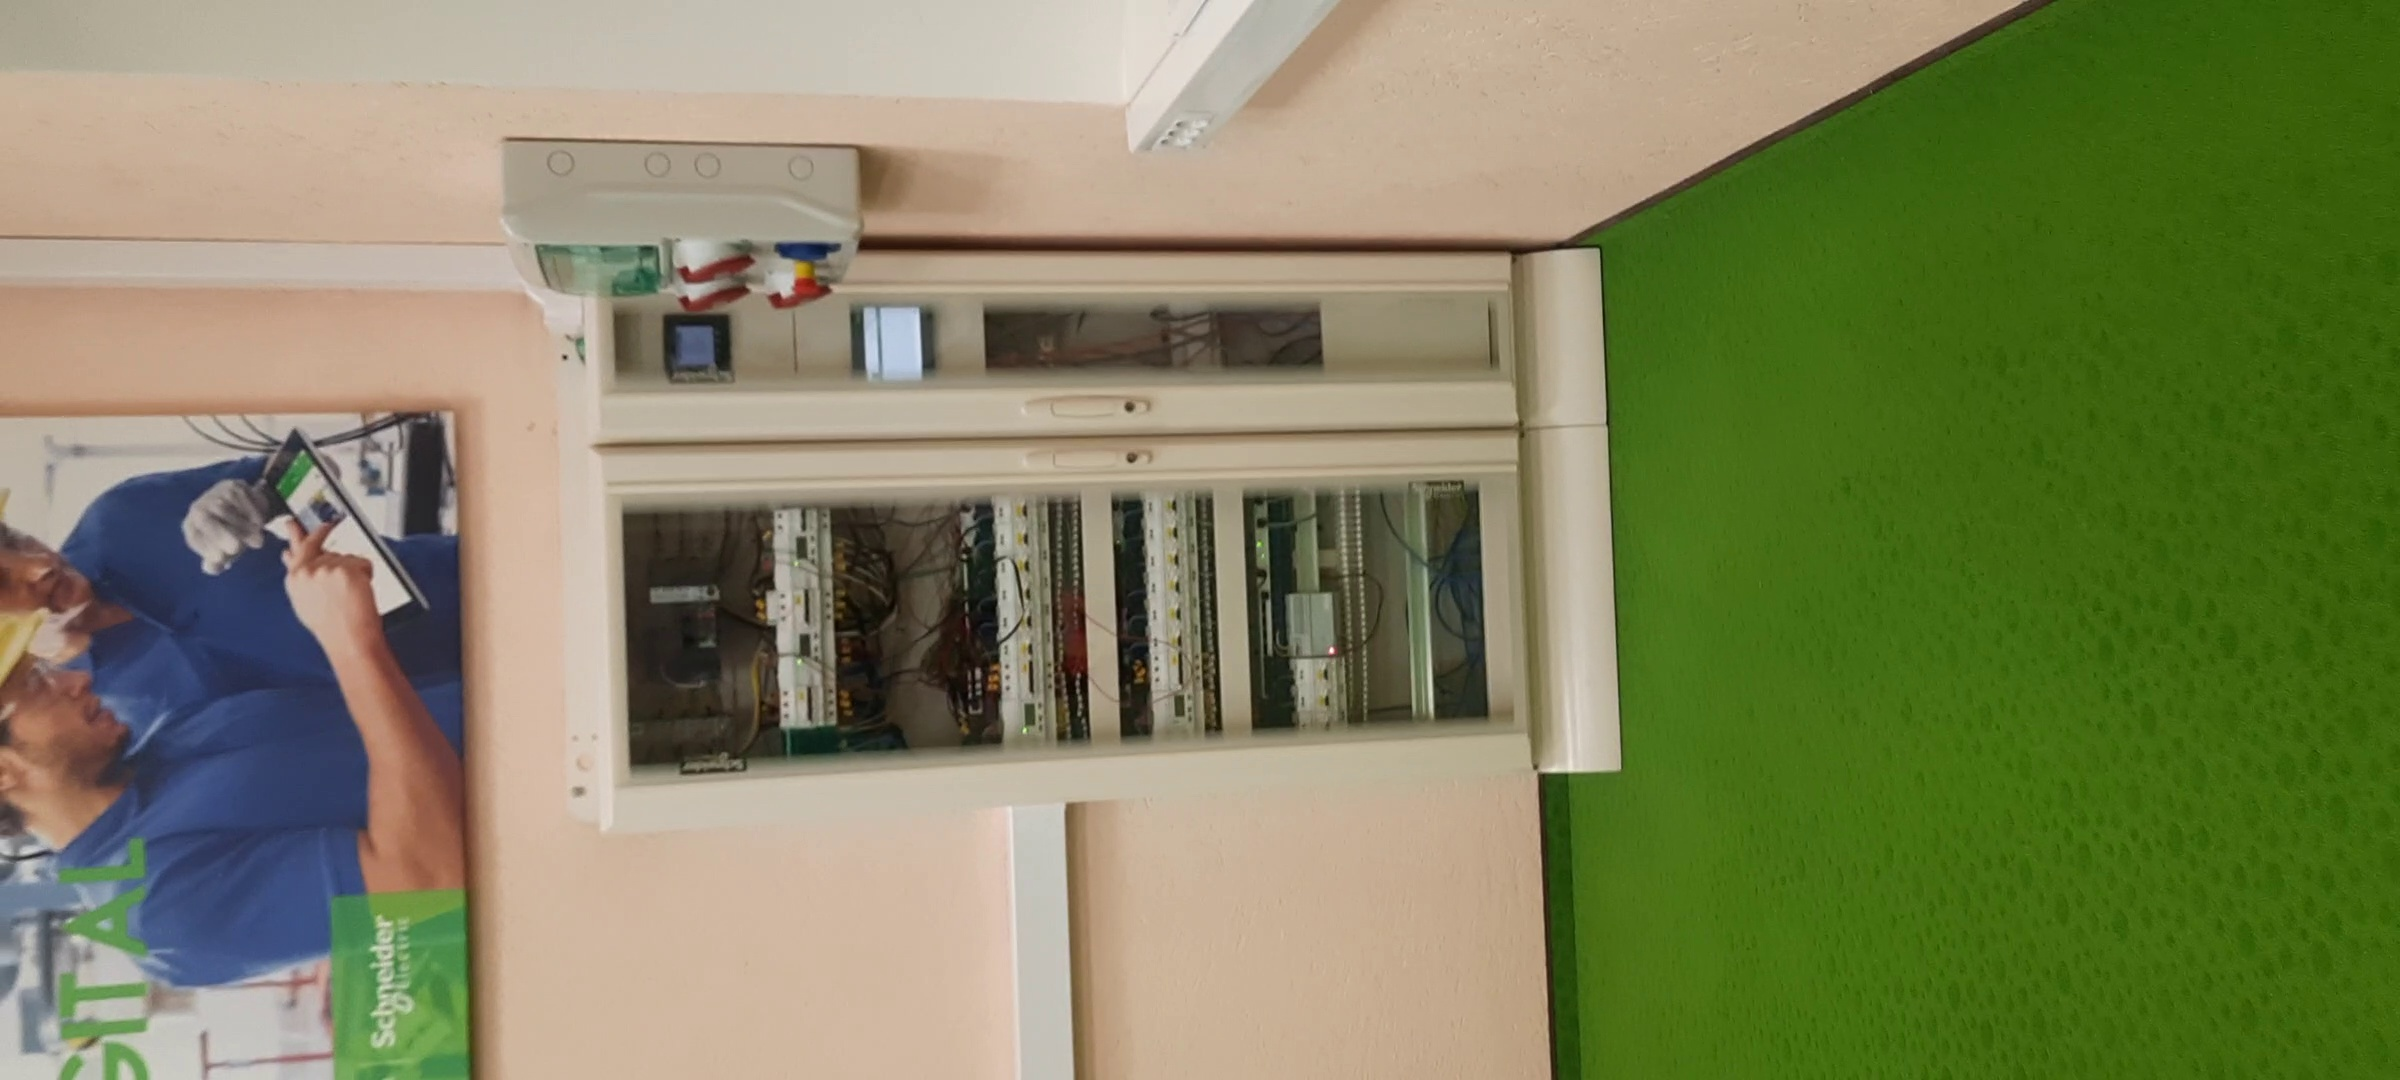stand1: (592, 252, 1606, 821)
